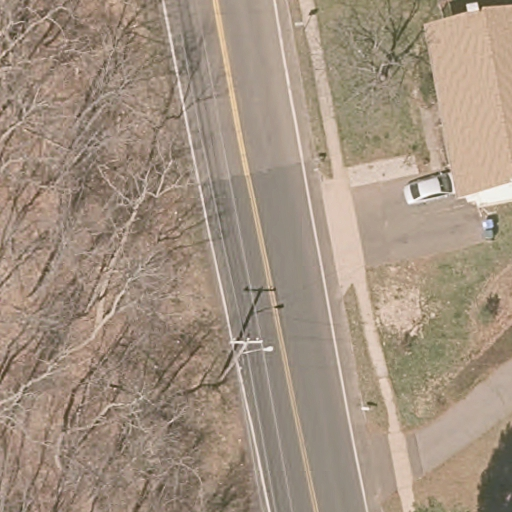DT: (218, 336, 274, 384)
